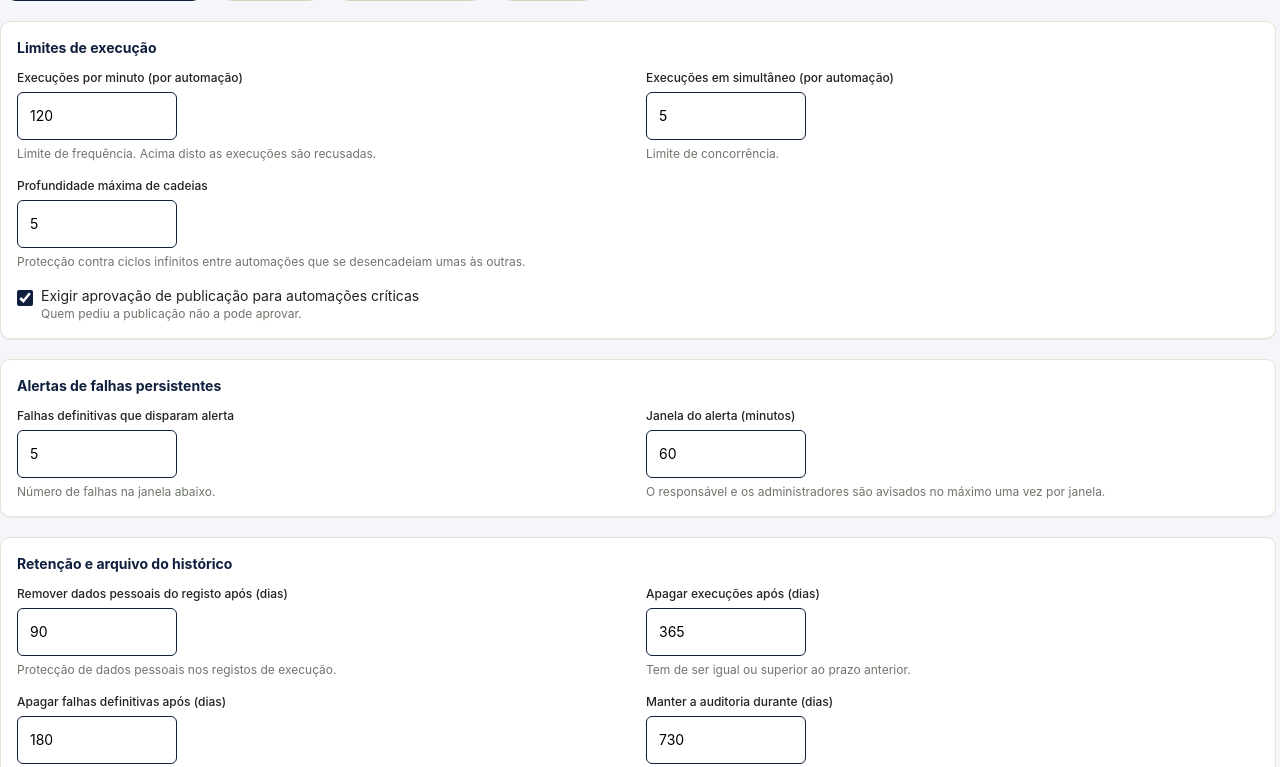
Scenario: SettingsTab › bloqueia valores fora do intervalo
Replace the text in the number field labelled "Profundidade máxima de cadeias" with "99". click: (97, 224)
box: [17,200,177,248]
(page scrolled)
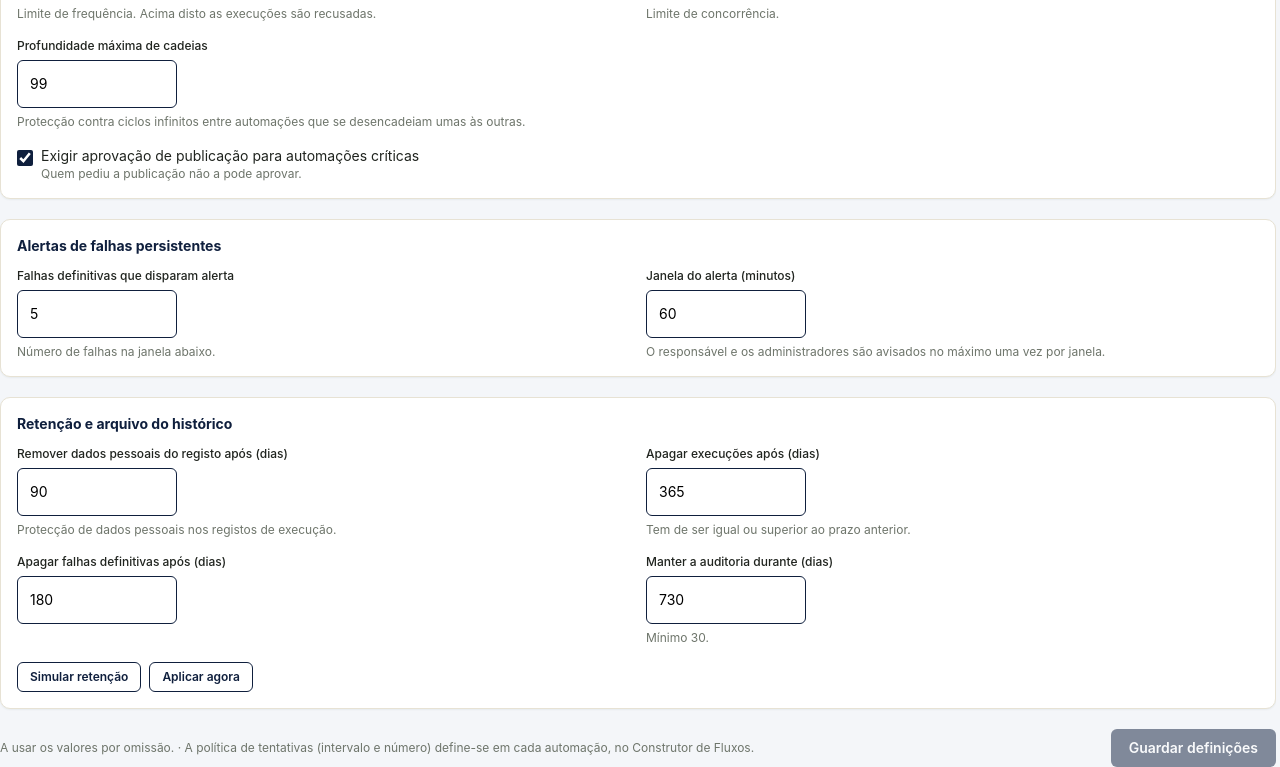
Result: the button "Guardar definições" is disabled at [1111,729,1276,766]
